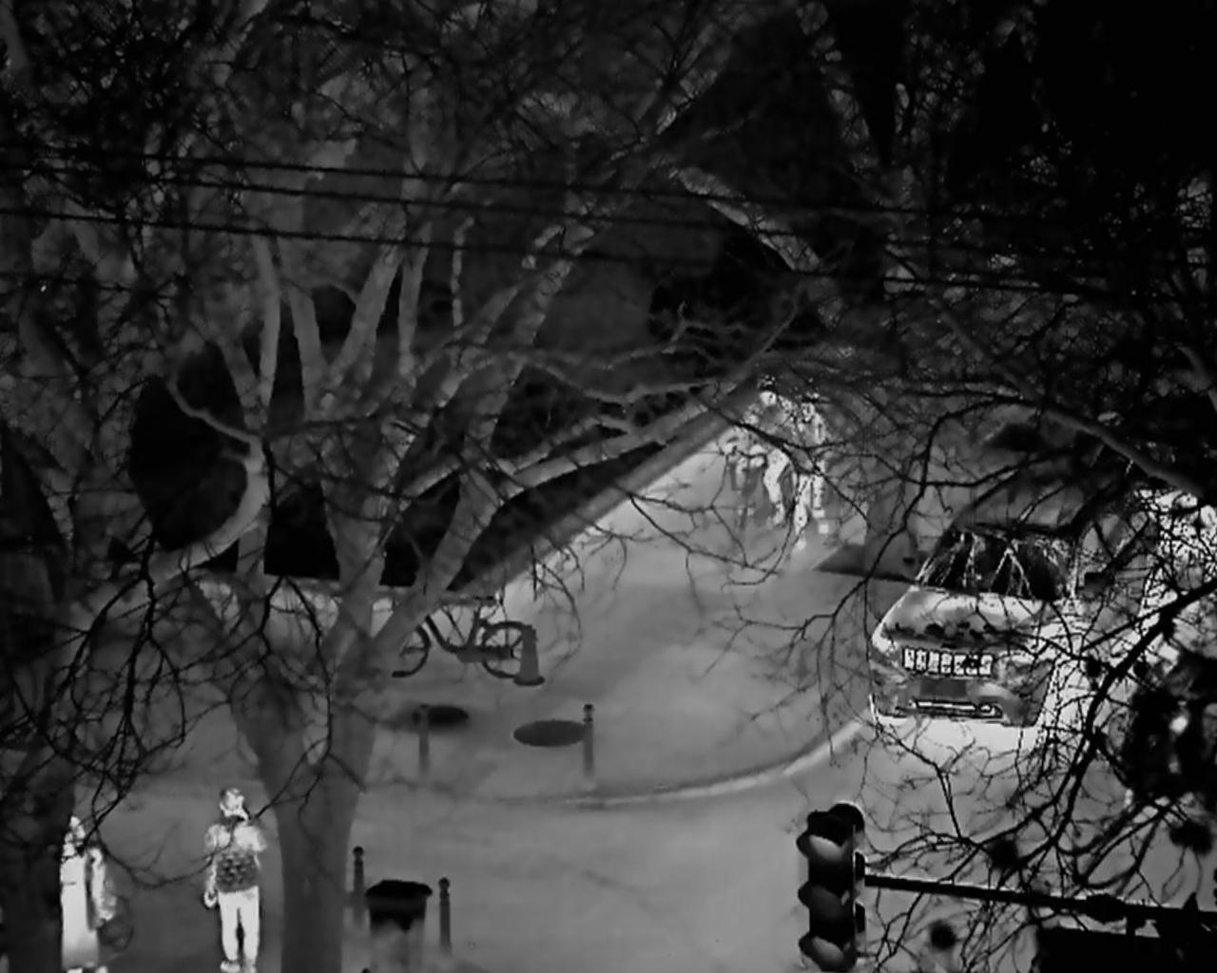person: (203, 787, 268, 973), (723, 383, 791, 521), (61, 815, 117, 973), (788, 392, 832, 551)
